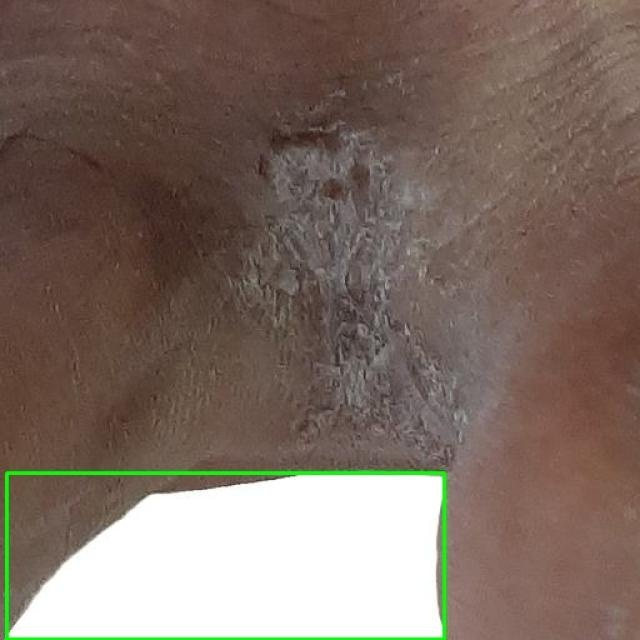Contact Dermatitis: (6, 472, 444, 639)
